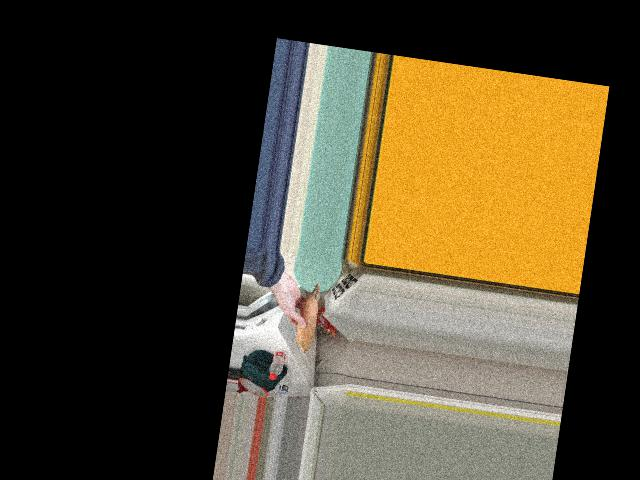sweet_potato: (290, 279, 323, 348)
